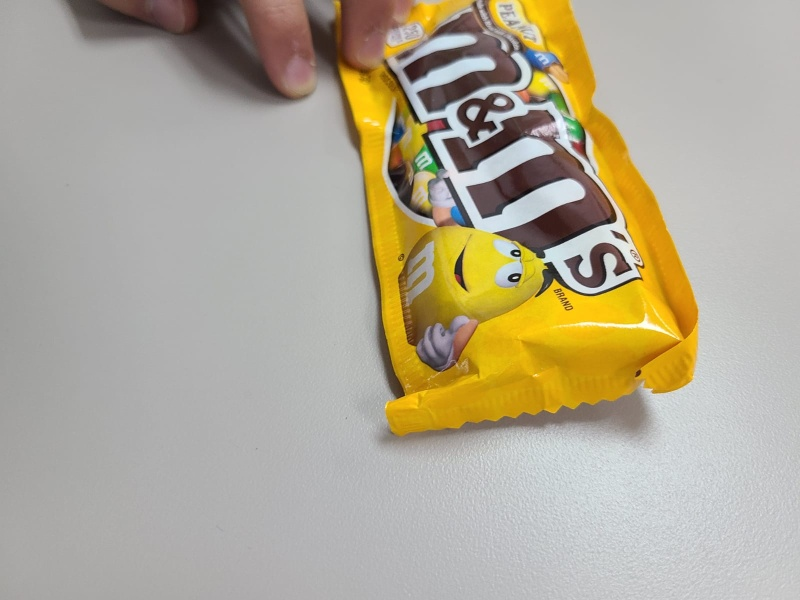m&m: (331, 1, 704, 464)
